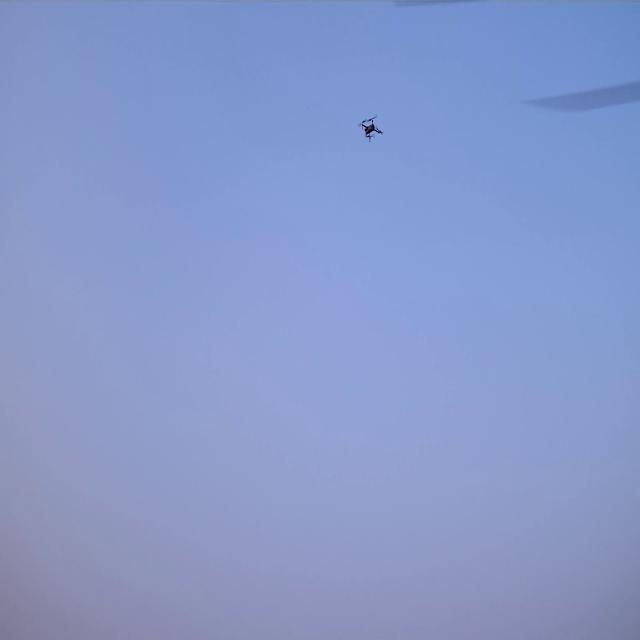UAV: (361, 118, 381, 141)
